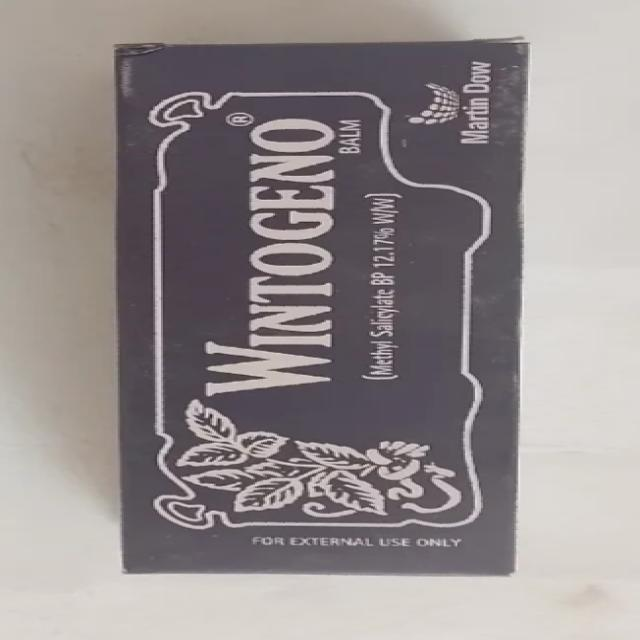drug-name: (206, 114, 339, 396)
